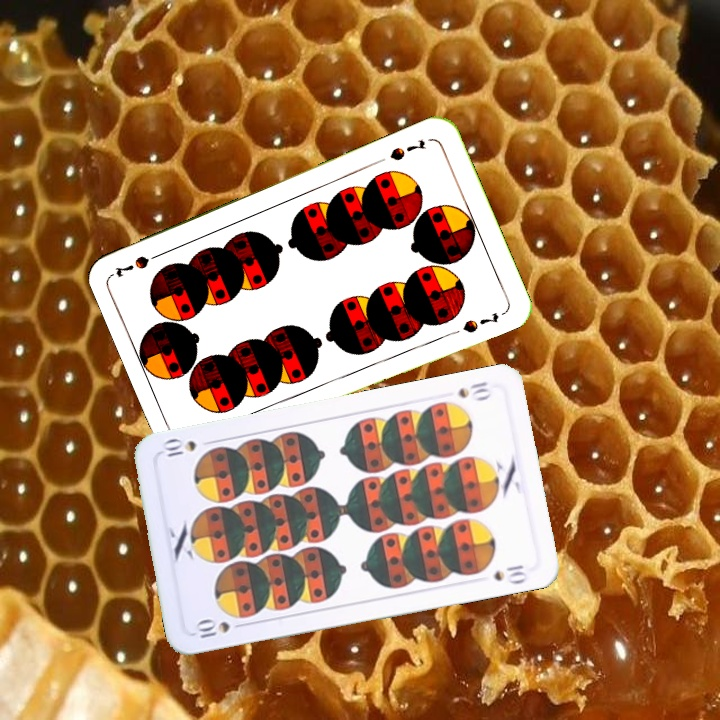S10: (190, 617, 249, 641), (453, 377, 493, 403)
S7: (386, 135, 428, 163)
